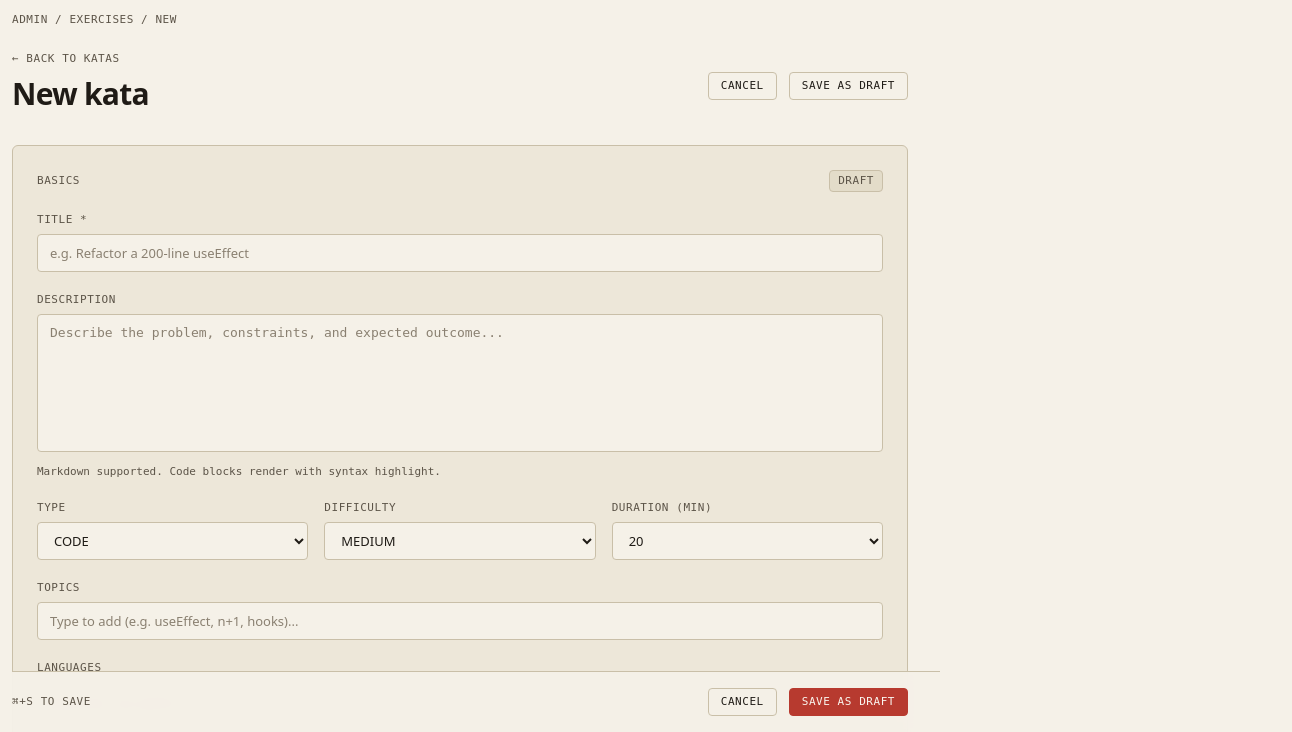
AdminNewKataPage › still blocks submit when only the title is filled (no owner role)
The image size is (1292, 732).
Type "Caching layer" into the field with placeholder "e.g. Refactor a 200-line useEffect" at [460, 252], box 37,234 -> 883,272
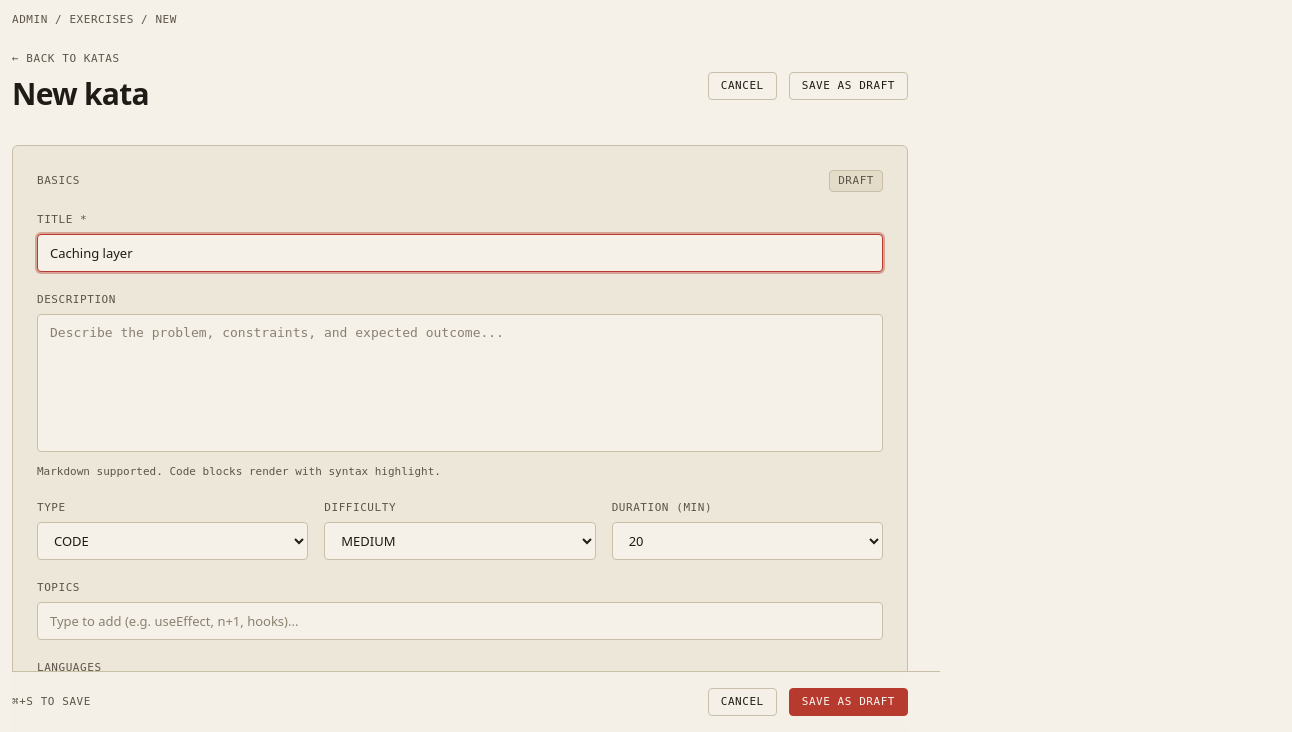
Click the 1st button "Save as draft" at [848, 86], box 789,72 -> 908,100
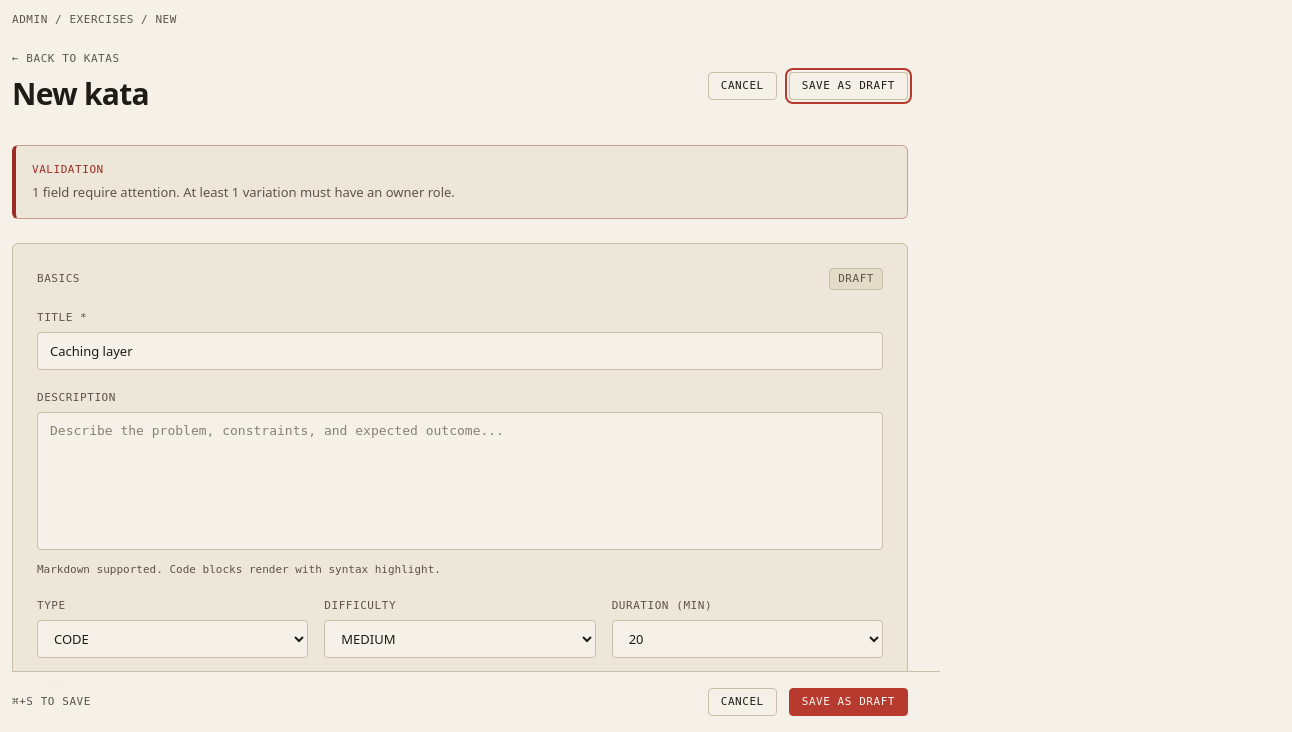
Check: the text "At least 1 variation must have an owner role." is shown, box 32,182 -> 455,200
